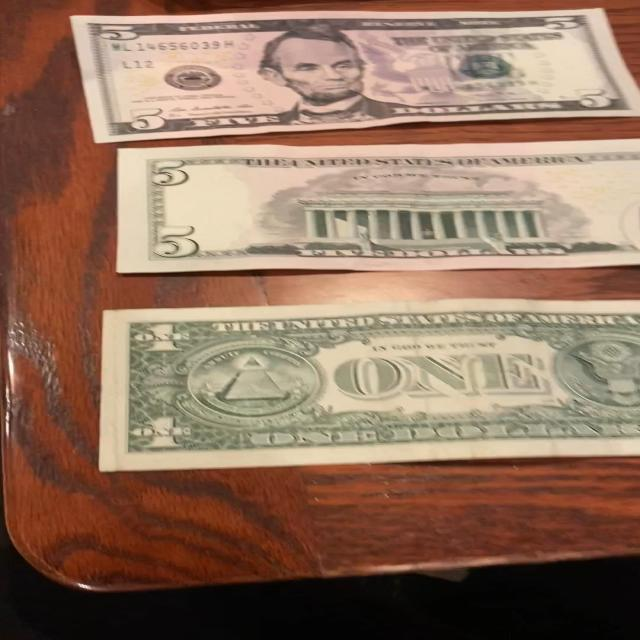1-Back: (89, 302, 640, 475)
5-Back: (106, 137, 640, 274)
5-Front: (64, 7, 640, 142)
